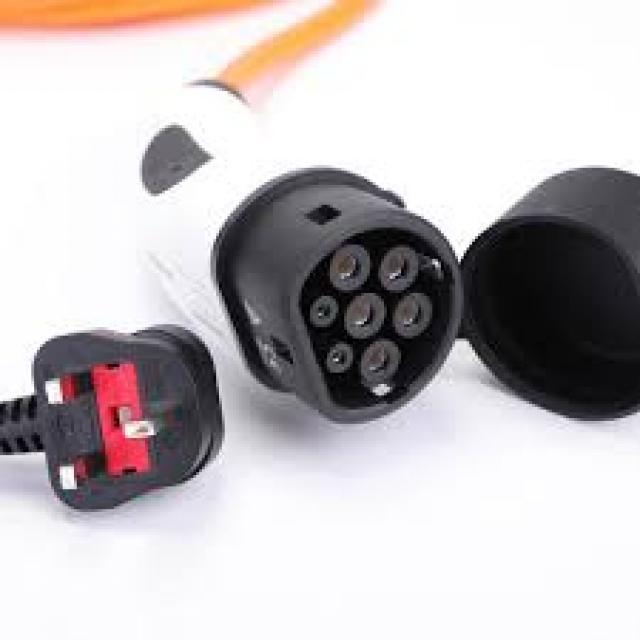Type 2: (267, 192, 463, 433)
